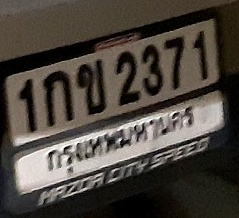num1: (15, 77, 40, 132)
txt01: (40, 69, 77, 128)
txt02: (74, 58, 109, 117)
